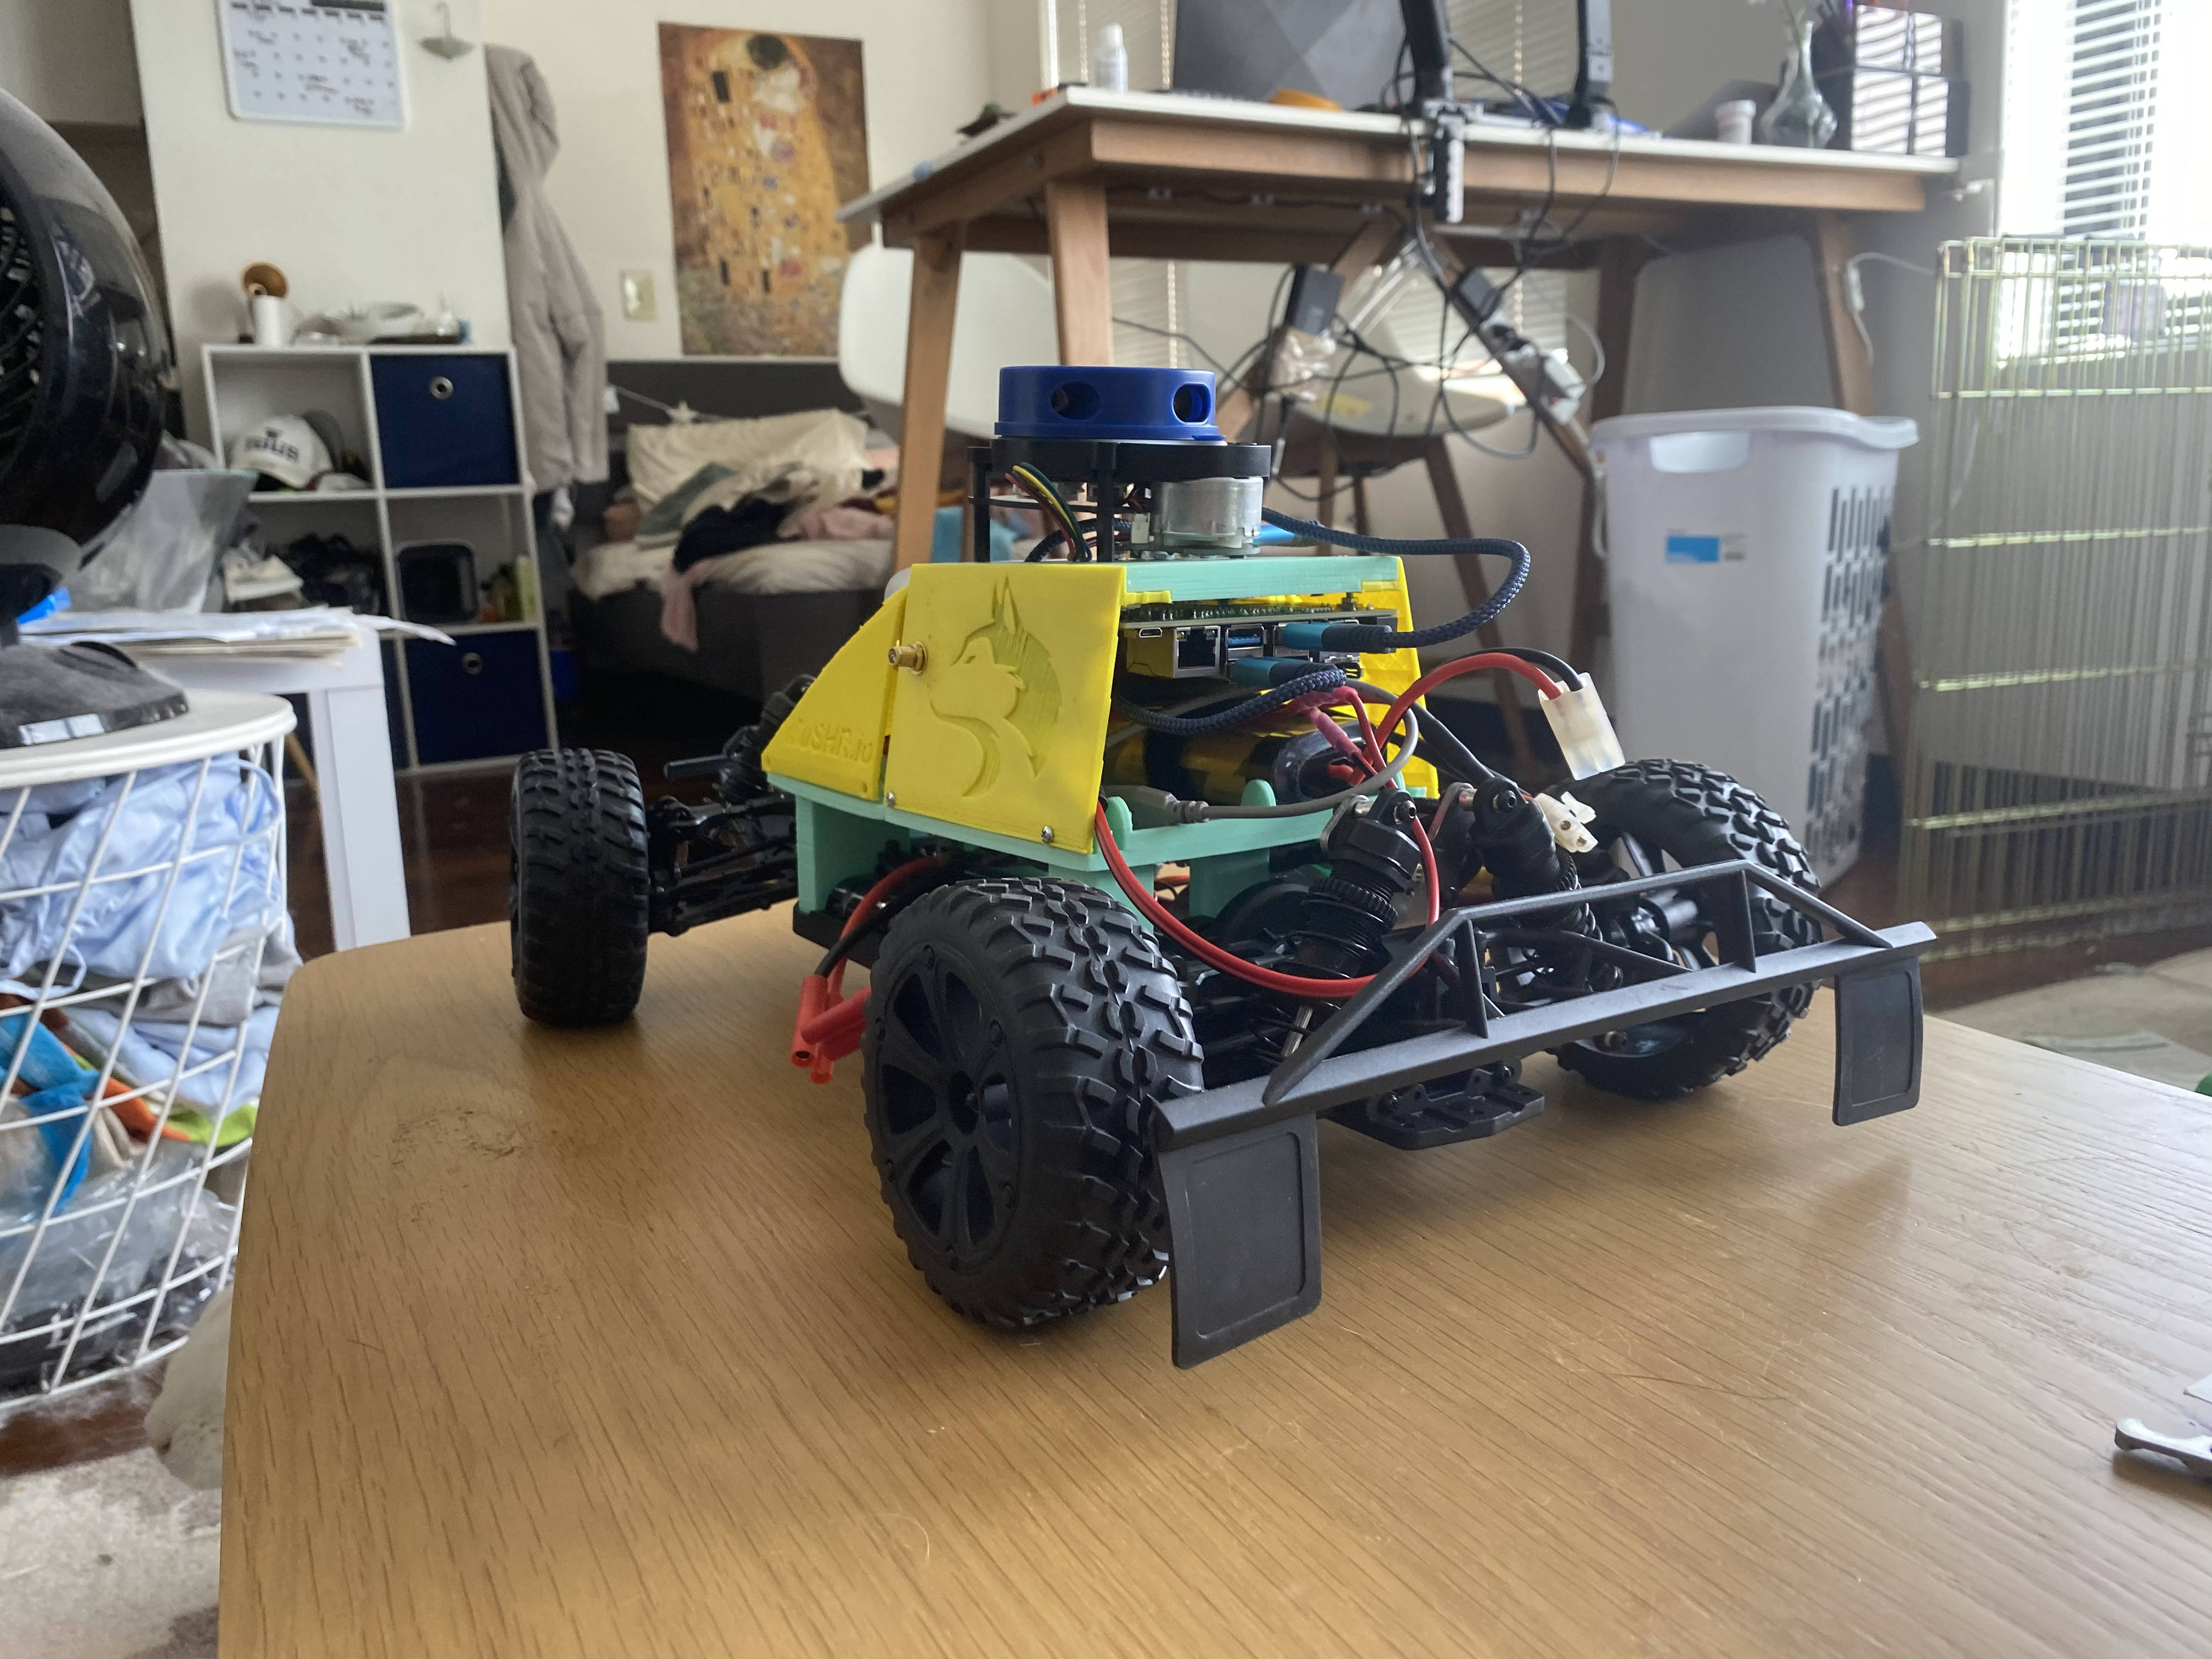mushr_car: (482, 350, 1959, 1375)
